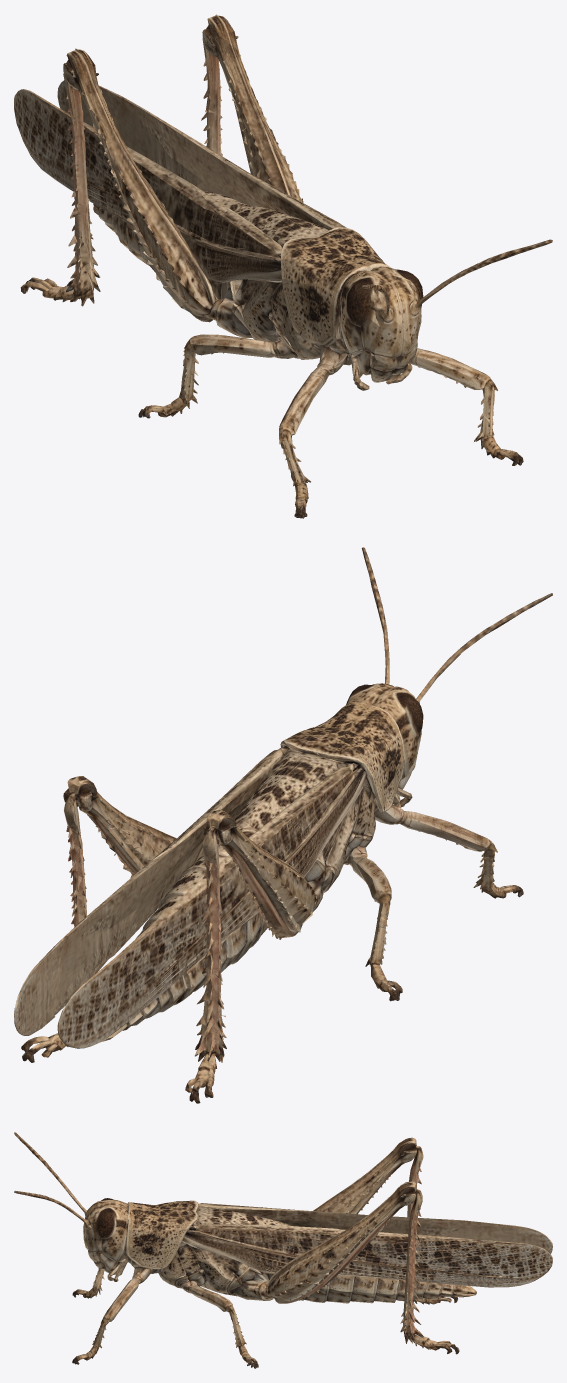
File: desert-locust.glb
3 views of the same model, one above another, from view 1: azimuth 30°, elevation 25°; view 2: azimuth 150°, elevation 25°; view 3: azimuth 270°, elevation 25° (orthographic). The views are drawn at different scales.
Bounding box in the file's own units: 0.6749 × 0.6613 × 1.9.
Materials: 1 (1 with a texture image).
